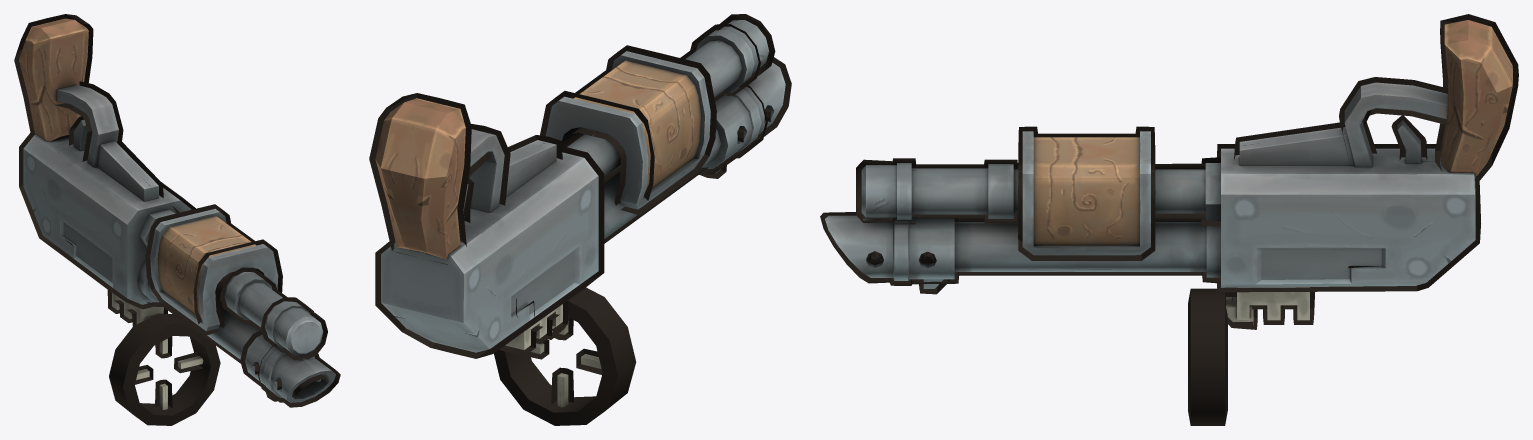
The model's file is Pistol.fbx.
3 views of the same model, side by side, from view 1: azimuth 30°, elevation 25°; view 2: azimuth 150°, elevation 25°; view 3: azimuth 270°, elevation 25° (orthographic). The views are drawn at different scales.
Parts seen in each view (by area): view 1: Object_2, Object_3; view 2: Object_2, Object_3; view 3: Object_2, Object_3.
Part boxes in pixels (x1,y1,x2,y2): Object_2: [19, 18, 335, 409]; Object_3: [14, 14, 340, 425]; Object_2: [375, 20, 785, 407]; Object_3: [369, 14, 791, 425]; Object_2: [825, 20, 1512, 325]; Object_3: [820, 14, 1518, 425].
Size of the model in its own units: 2.15 by 10.89 by 6.79.
2 materials, 1 textured.
